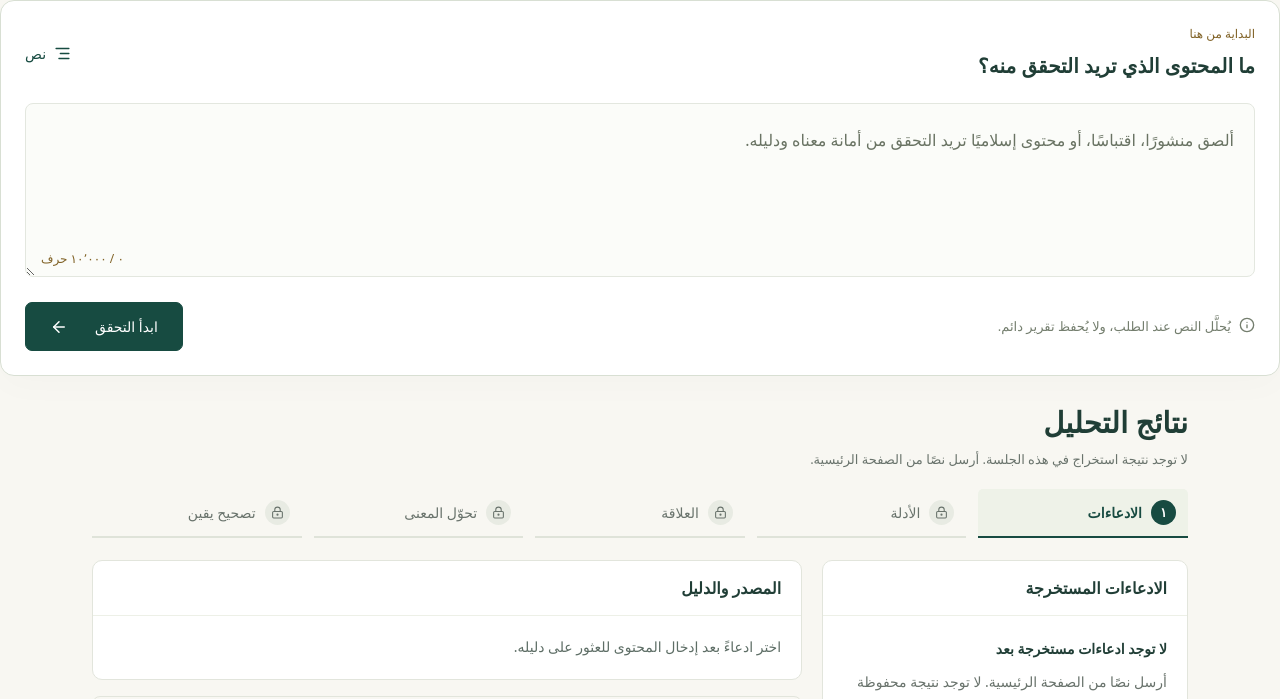
Test: claim extraction UI › blocks empty and very short input without contacting AI
Click the button "ابدأ التحقق" at coordinates (104, 326), box [25,302,183,351]
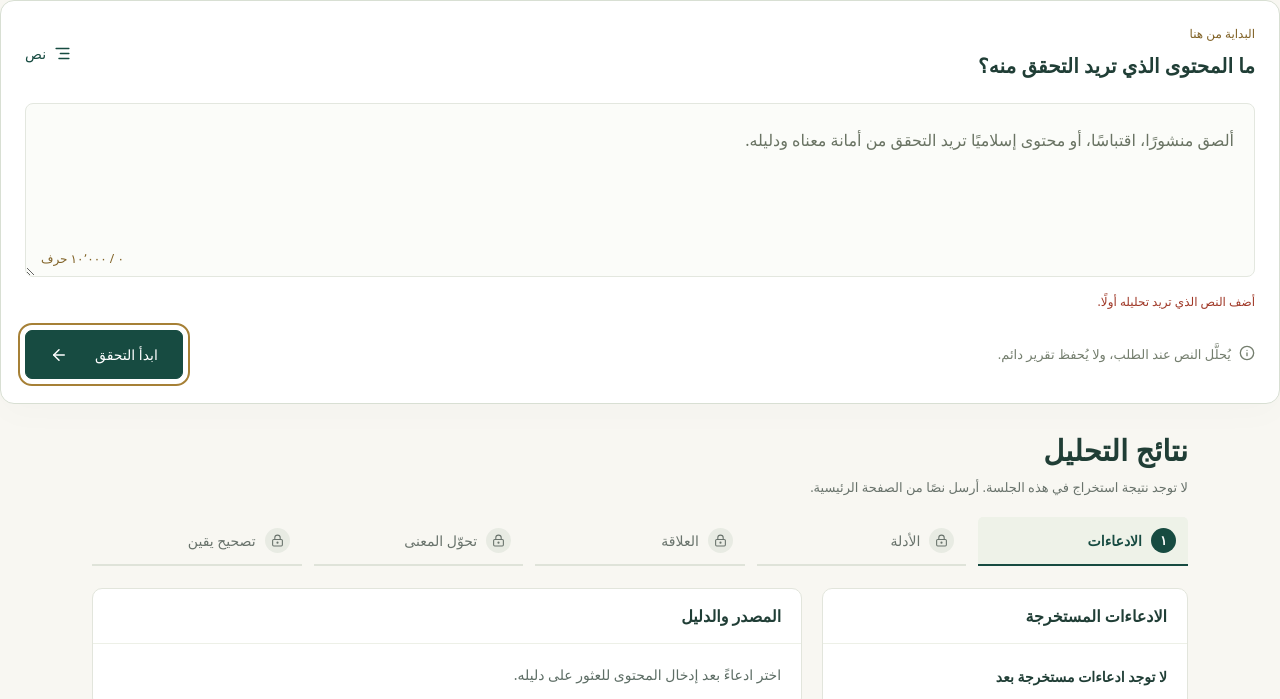
Expected: the message "أضف النص الذي تريد تحليله أولًا." is shown, [1098,293,1255,310]
Type "قصير" into the text box at coordinates (640, 190), box [25,103,1255,277]
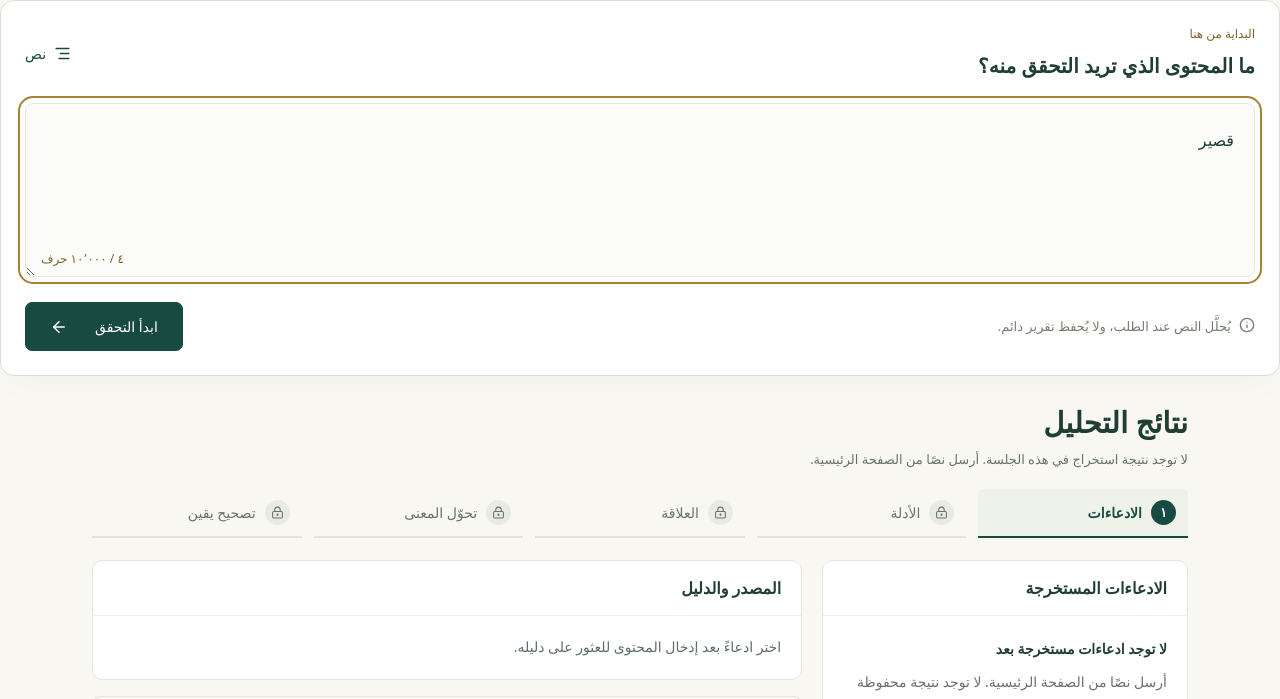
Click the button "ابدأ التحقق" at coordinates (104, 326), box [25,302,183,351]
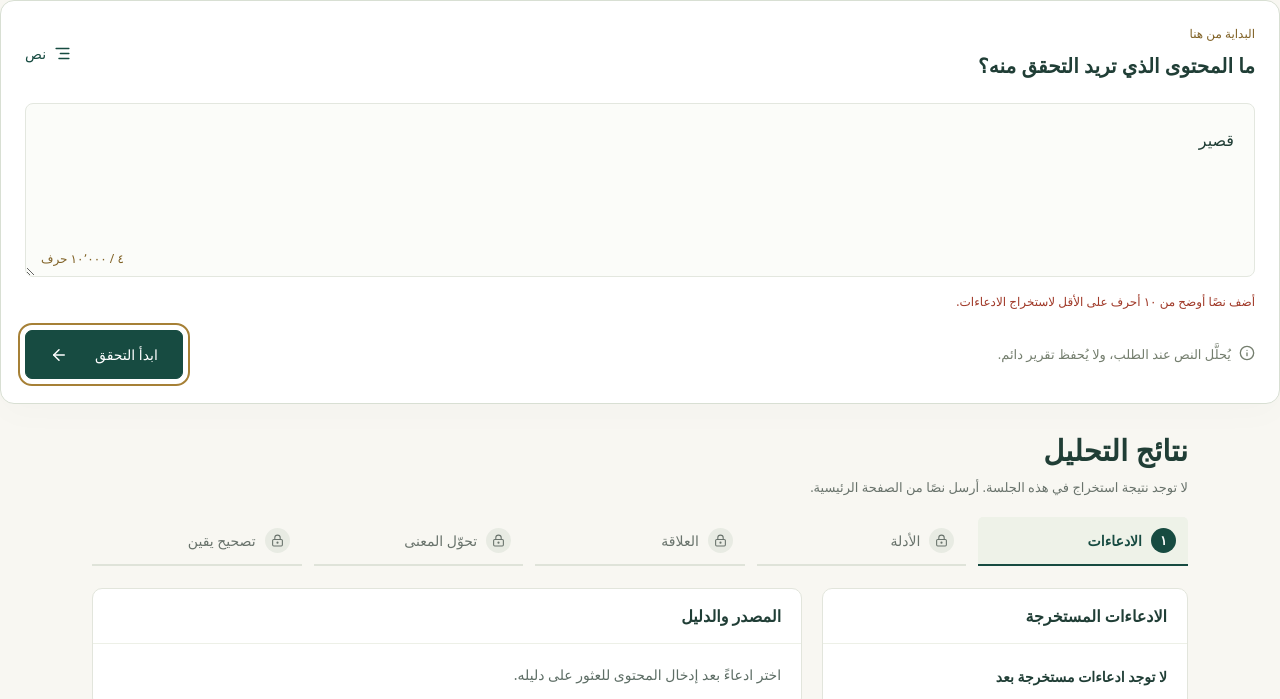
Expected: the message "أضف نصًا أوضح من ١٠ أحرف على الأقل لاستخراج الادعاءات." is shown, [956,293,1255,310]
